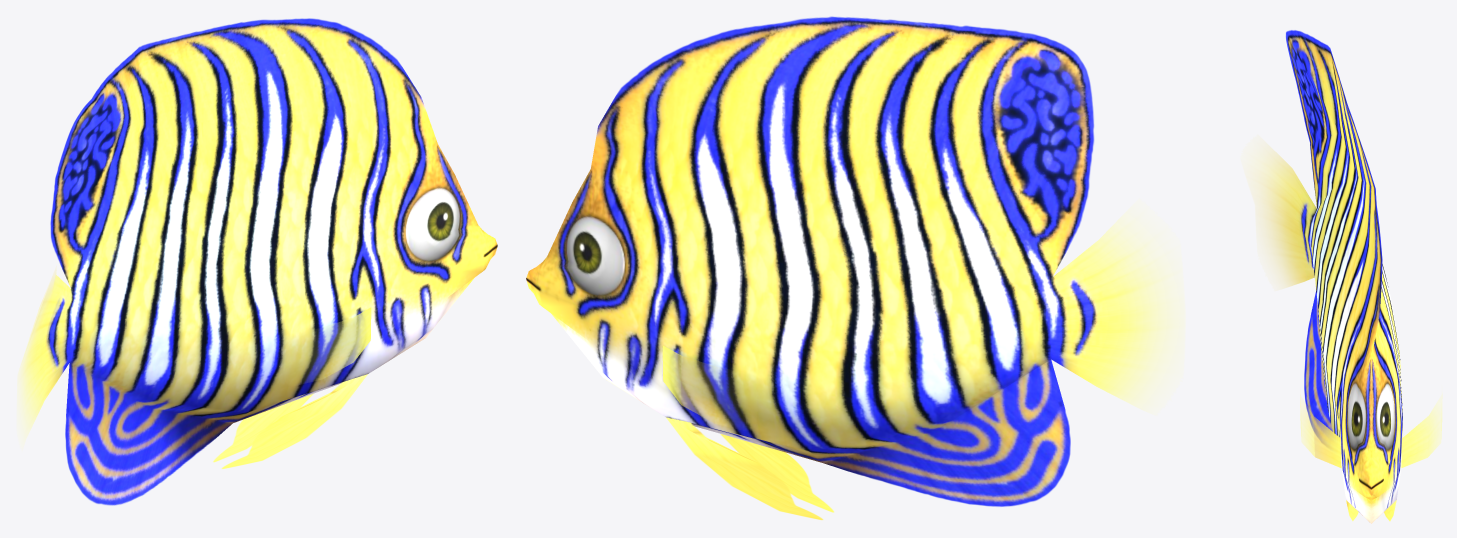
The model's file is fish_angel.glb.
3 views of the same model, side by side, from view 1: azimuth 30°, elevation 25°; view 2: azimuth 150°, elevation 25°; view 3: azimuth 270°, elevation 25° (orthographic). The views are drawn at different scales.
Parts seen in each view (by area): view 1: Object_7; view 2: Object_7; view 3: Object_7.
Boxes of the visible parts, x1,y1,x2,y2 form: Object_7: [19, 18, 497, 505]; Object_7: [526, 16, 1179, 519]; Object_7: [1253, 30, 1441, 523].
Bounding box in the file's own units: 1 × 0.8137 × 0.4025.
Materials: 1 (1 with a texture image).
